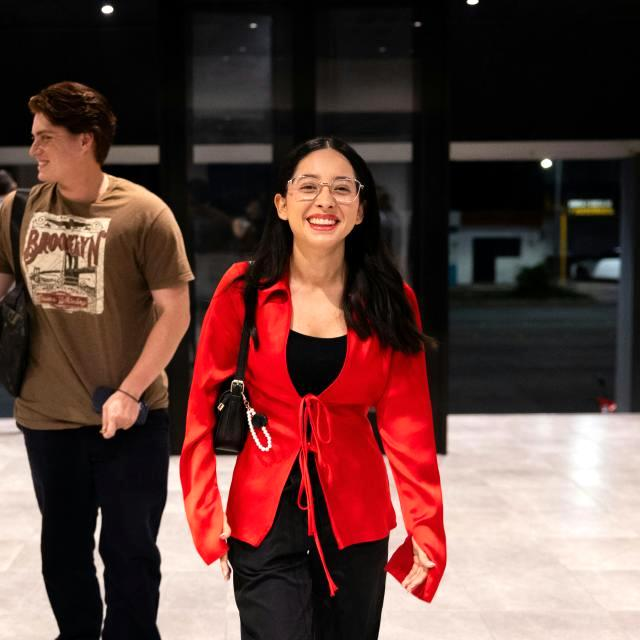no_head_wear: (240, 131, 441, 355), (29, 81, 116, 164)
person: (174, 131, 454, 640), (0, 76, 196, 640)
